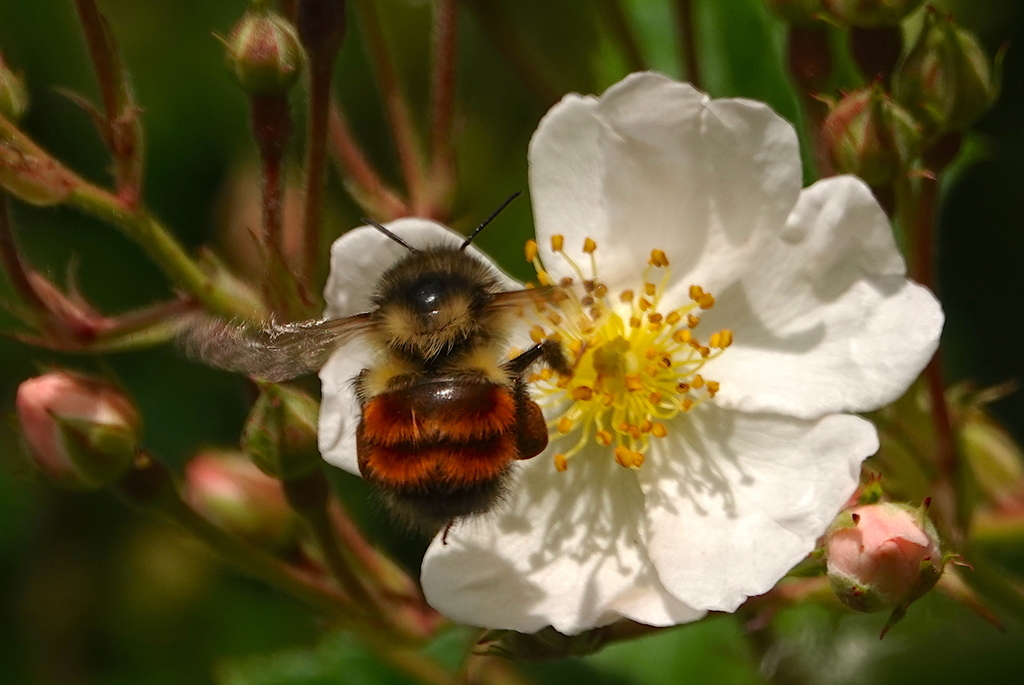bumblebee: (191, 193, 577, 526)
